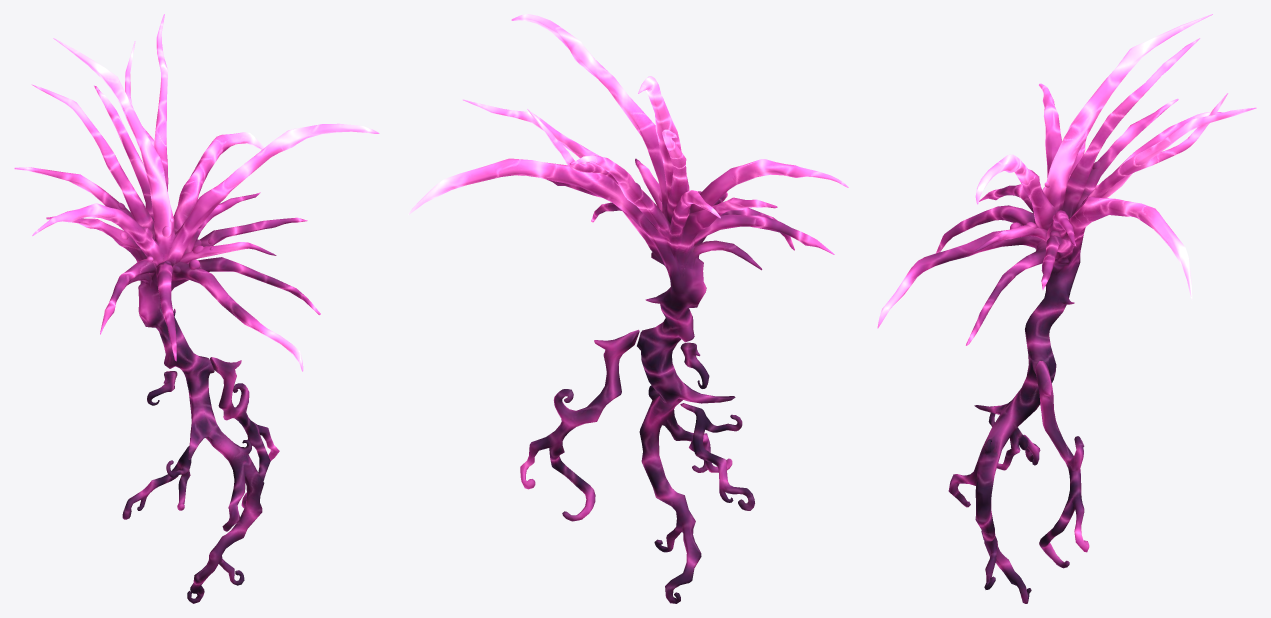
The model's file is caos_sts_chaosplant_01c_chaos_v36.glb.
3 views of the same model, side by side, from view 1: azimuth 30°, elevation 25°; view 2: azimuth 150°, elevation 25°; view 3: azimuth 270°, elevation 25° (orthographic). The views are drawn at different scales.
Parts seen in each view (by area): view 1: caos_sts_chaosplant_01c; view 2: caos_sts_chaosplant_01c; view 3: caos_sts_chaosplant_01c.
Boxes of the visible parts, <box> form: caos_sts_chaosplant_01c: <box>14,14,379,603</box>; caos_sts_chaosplant_01c: <box>408,14,848,603</box>; caos_sts_chaosplant_01c: <box>877,14,1256,603</box>.
Bounding box in the file's own units: 4.69 × 7.25 × 4.45.
Materials: 1 (1 with a texture image).
